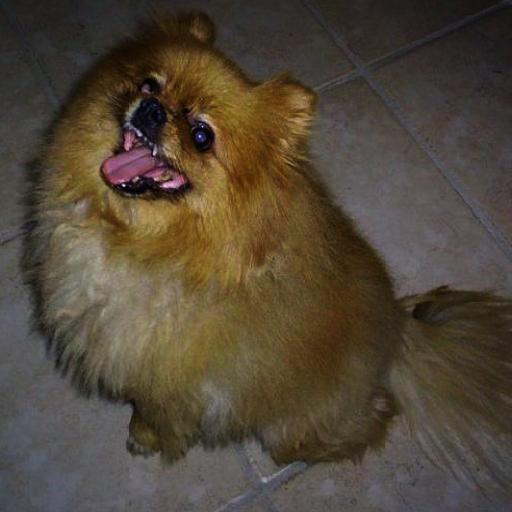dog_face: (86, 15, 304, 208)
